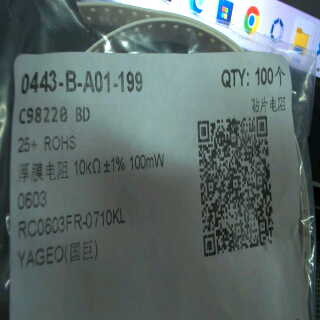10kR: (71, 156, 102, 177)
